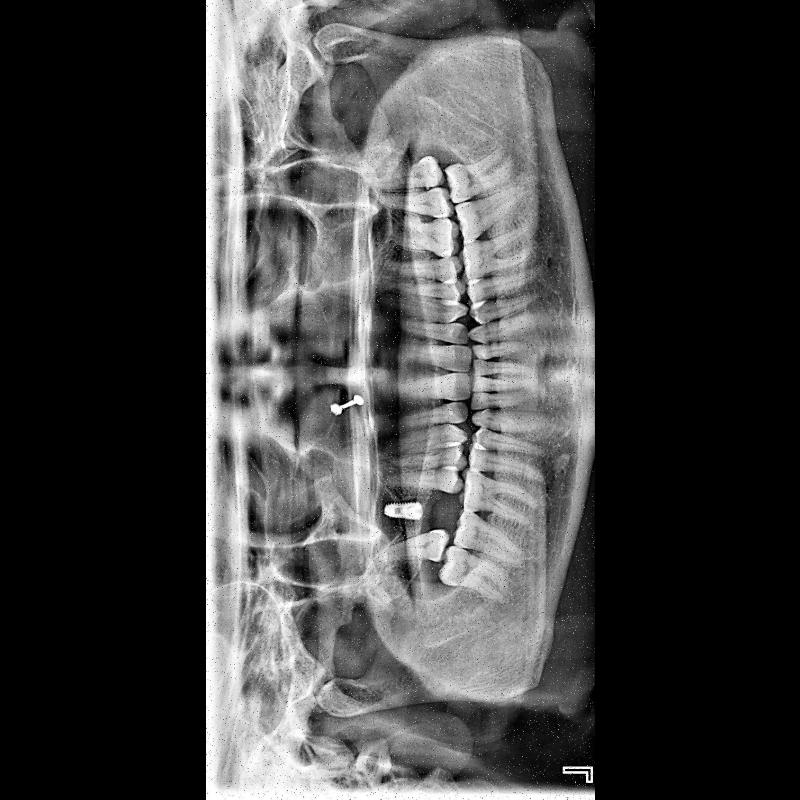osstem: (382, 500, 424, 526)
